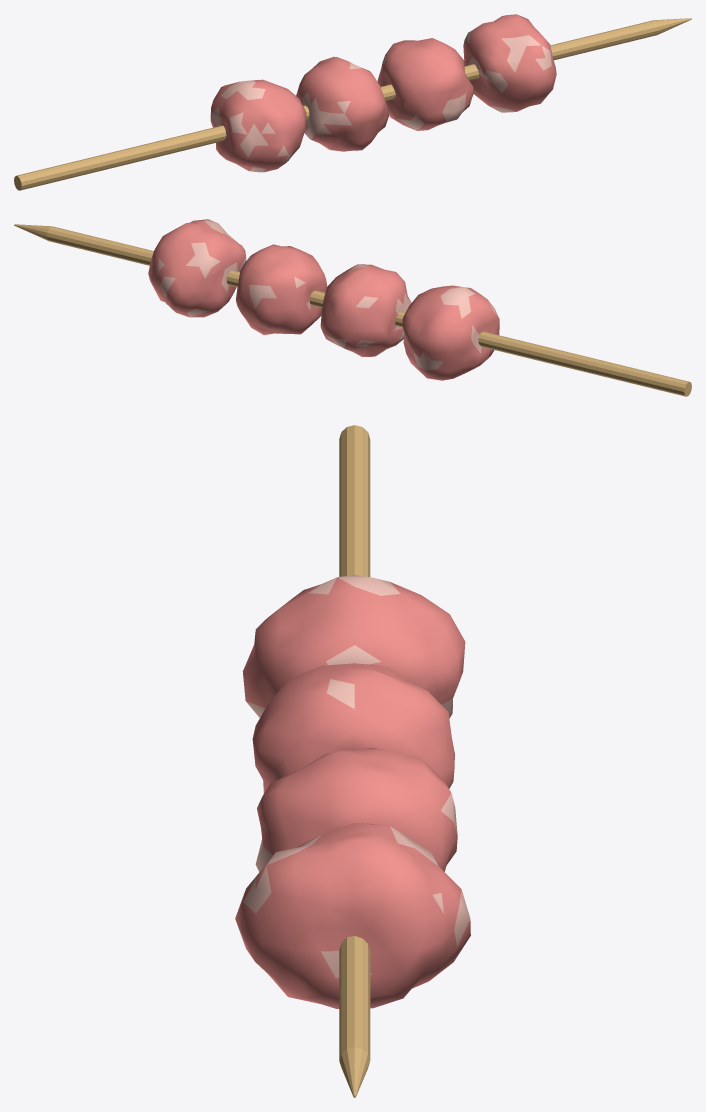
Rendered from Raw_Chicken_Skewer.fbx.
3 views of the same model, one above another, from view 1: azimuth 30°, elevation 25°; view 2: azimuth 150°, elevation 25°; view 3: azimuth 270°, elevation 25° (orthographic). The views are drawn at different scales.
Visible parts, largest first — view 1: Raw_Chicken_Skewer; view 2: Raw_Chicken_Skewer; view 3: Raw_Chicken_Skewer.
Part boxes in pixels (x1,y1,x2,y2): Raw_Chicken_Skewer: (14, 14, 691, 190); Raw_Chicken_Skewer: (14, 219, 691, 396); Raw_Chicken_Skewer: (235, 425, 470, 1097).
Bounding box in the file's own units: 0.222 × 0.0277 × 0.0336.
